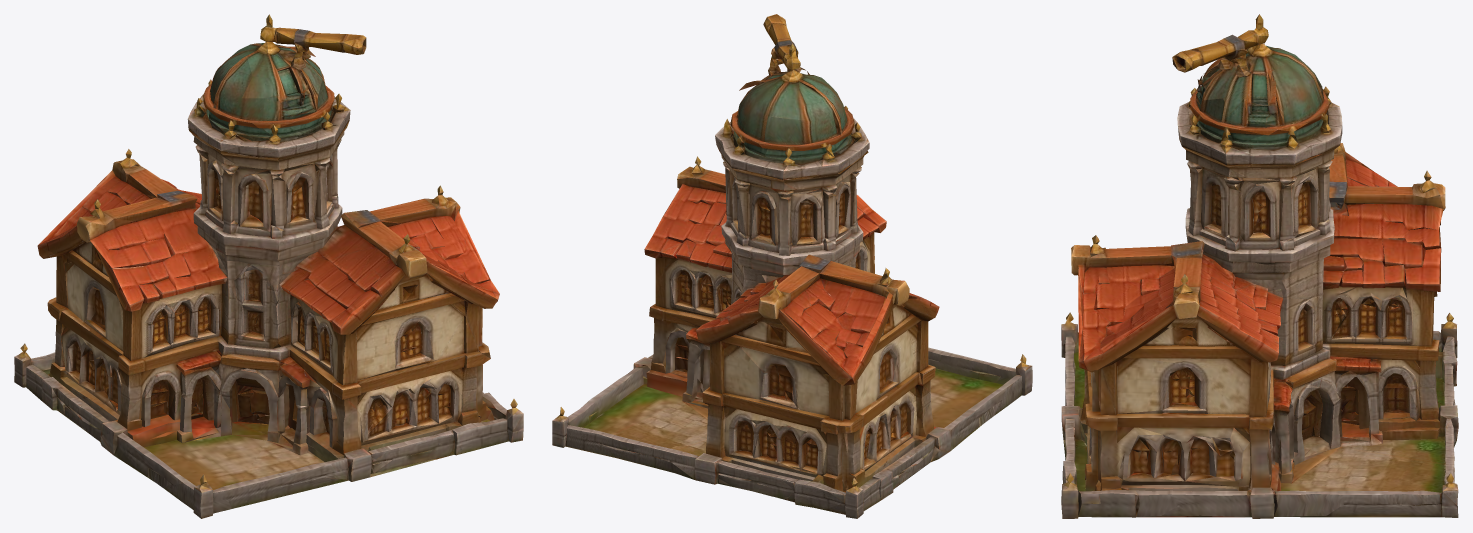
File: university2.glb
3 renders of one model, left to right at view 1: azimuth 30°, elevation 25°; view 2: azimuth 150°, elevation 25°; view 3: azimuth 270°, elevation 25°, orthographic. The views are drawn at different scales.
Visible parts, largest first — view 1: Mesh_0; view 2: Mesh_0; view 3: Mesh_0.
Part boxes in pixels (x1,y1,x2,y2): Mesh_0: (14,14,523,518); Mesh_0: (552,14,1032,518); Mesh_0: (1061,14,1458,518).
Size of the model in its own units: 1.62 by 1.9 by 1.62.
1 material, 1 textured.
